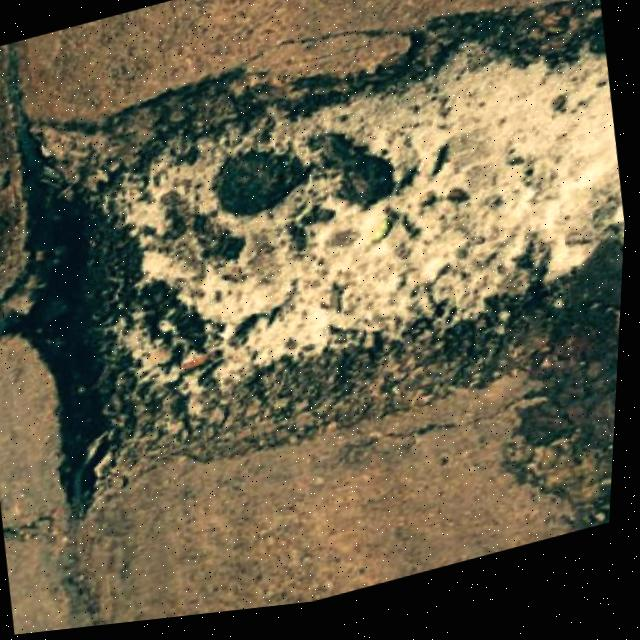Pothole: (0, 0, 639, 514)
